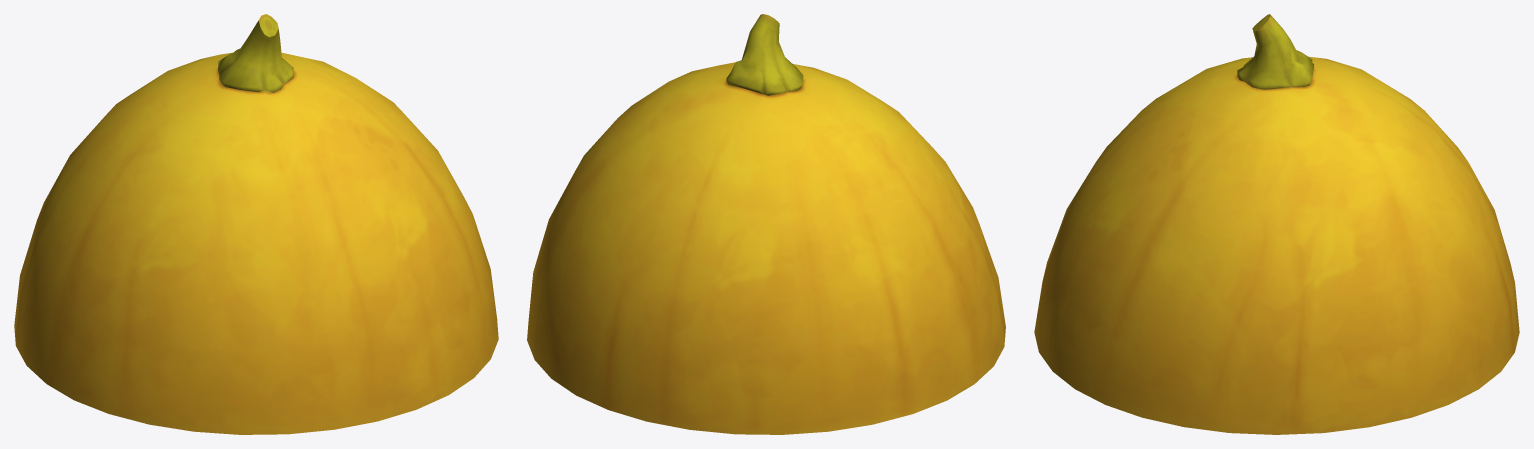
The model's file is SM_HoneydewMelonCutTop.fbx.
3 views of the same model, side by side, from view 1: azimuth 30°, elevation 25°; view 2: azimuth 150°, elevation 25°; view 3: azimuth 270°, elevation 25° (orthographic).
Parts seen in each view (by area): view 1: SM_HoneydewMelonCutTop; view 2: SM_HoneydewMelonCutTop; view 3: SM_HoneydewMelonCutTop.
Boxes of the visible parts, box(x1,y1,x2,y2) form: SM_HoneydewMelonCutTop: box(14, 14, 498, 434); SM_HoneydewMelonCutTop: box(527, 14, 1005, 434); SM_HoneydewMelonCutTop: box(1034, 14, 1519, 434).
Bounding box in the file's own units: 24.49 × 17.78 × 24.5.
